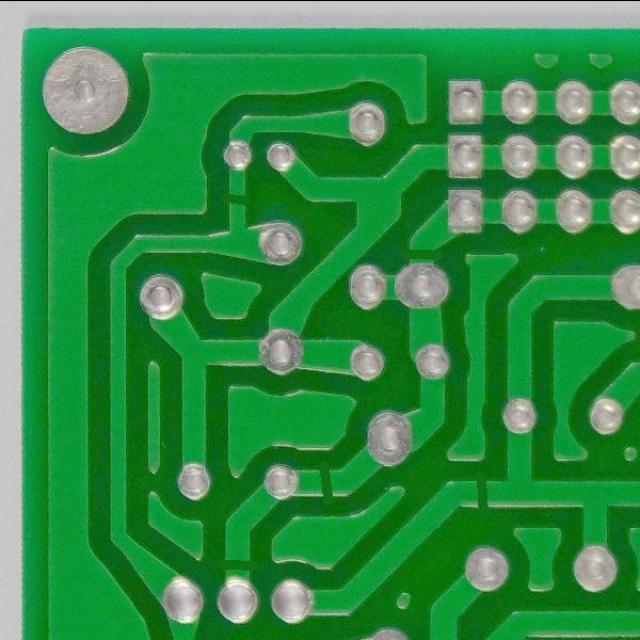open_circuit: (465, 470, 498, 520), (310, 459, 342, 510), (215, 186, 256, 218), (399, 237, 442, 266), (217, 551, 256, 578)
